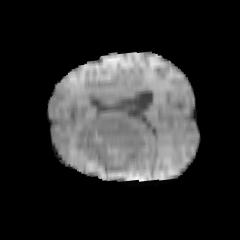glioma: (75, 120, 145, 173)
